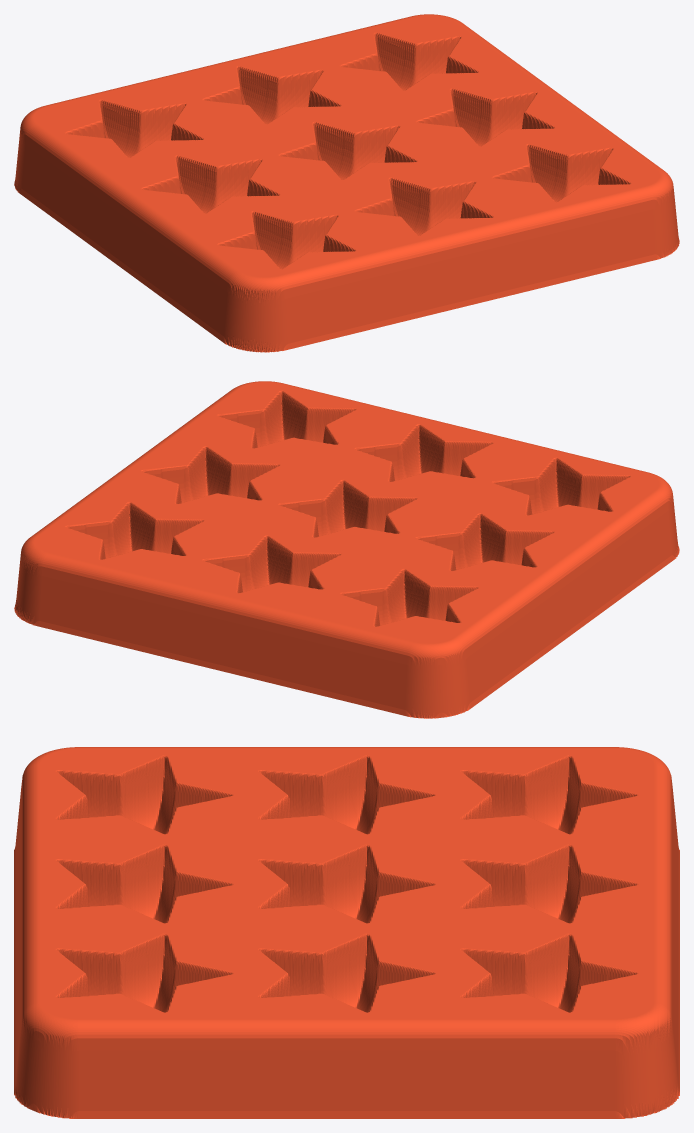
Rendered from mold.glb.
3 renders of one model, top to bottom at view 1: azimuth 30°, elevation 25°; view 2: azimuth 150°, elevation 25°; view 3: azimuth 270°, elevation 25°, orthographic. The views are drawn at different scales.
Visible parts, largest first — view 1: geometry_0; view 2: geometry_0; view 3: geometry_0.
Part boxes in pixels (left/top/right/bottom): geometry_0: left=14, top=14, right=679, bottom=352; geometry_0: left=14, top=381, right=679, bottom=718; geometry_0: left=14, top=747, right=679, bottom=1118.
Bounding box in the file's own units: 0.0964 × 0.0136 × 0.0928.
